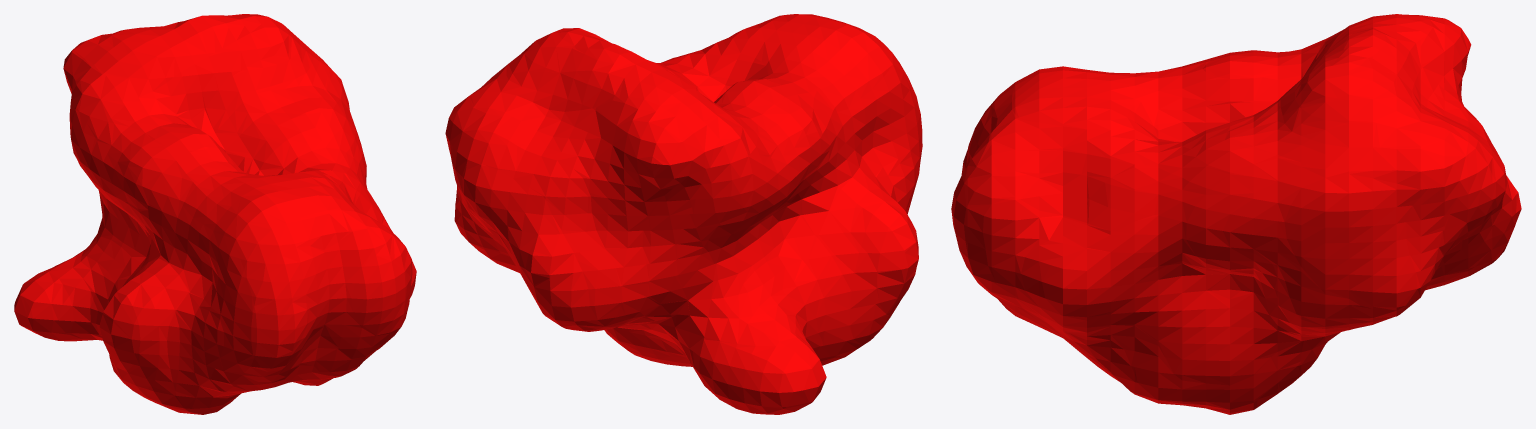
File: fnr_coarse.dae
The picture shows the model from 3 angles, left to right: view 1: azimuth 30°, elevation 25°; view 2: azimuth 150°, elevation 25°; view 3: azimuth 270°, elevation 25°; orthographic projection. The views are drawn at different scales.
Parts seen in each view (by area): view 1: fnr; view 2: fnr; view 3: fnr.
Boxes of the visible parts, x1=… form: fnr: x1=14, y1=14, x2=416, y2=414; fnr: x1=445, y1=14, x2=922, y2=414; fnr: x1=951, y1=14, x2=1521, y2=414.
Bounding box in the file's own units: 45.15 × 43.83 × 61.83.
